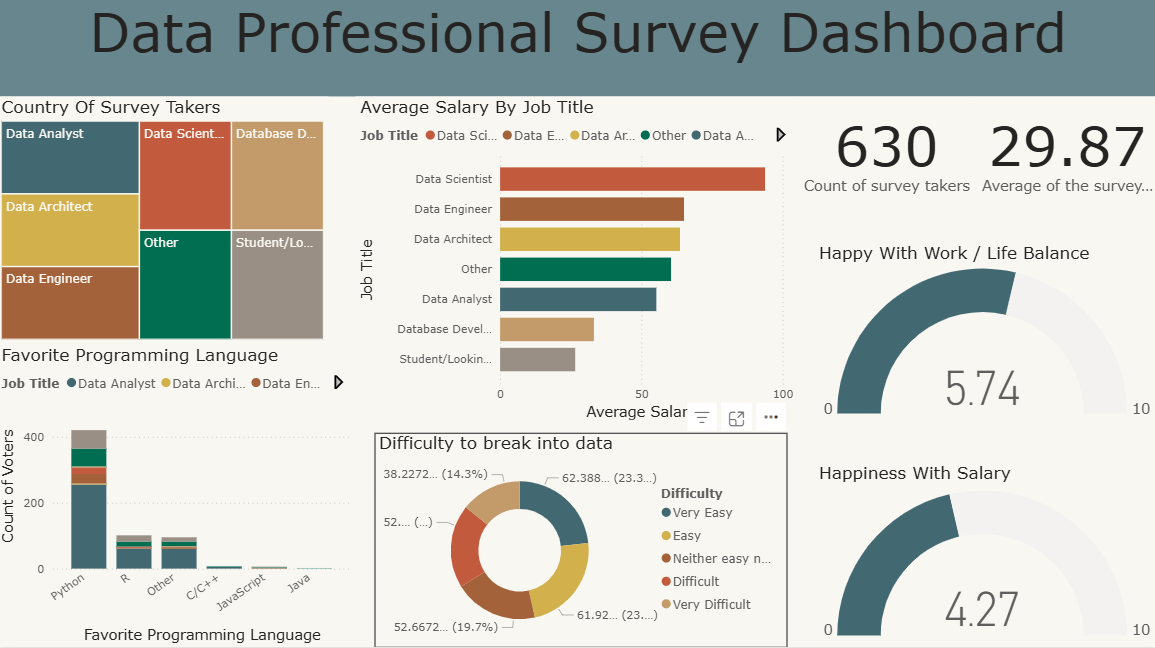

This screenshot's page, from the dashboard's own definition file:
{"tool":"powerbi","page":{"name":"Page 1","canvas":[1280,720],"ordinal":0},"visuals":[{"type":"textbox","box":[0,0,1280.3,112.5],"z":0},{"type":"card","fields":{"Values":["Count(Data Professional Survey.Unique ID)"]},"box":[882.4,112.9,195.5,121.1],"z":1000},{"type":"card","fields":{"Values":["Avg(Data Professional Survey.Q10 - Current Age)"]},"box":[1077.9,112.9,202.4,121.1],"z":2000},{"type":"barChart","title":"Average Salary By Job Title","fields":{"Category":["Data Professional Survey.Q1 - Which Title Best Fits your Current Role?.1"],"Y":["Avg(Data Professional Survey.Average Salary)"],"Series":["Data Professional Survey.Q1 - Which Title Best Fits your Current Role?.1"]},"box":[395.1,112.9,487.3,360.7],"z":3000},{"type":"columnChart","title":" Favorite Programming Language","fields":{"Category":["Data Professional Survey.Q5 - Favorite Programming Language.1"],"Y":["CountNonNull(Data Professional Survey.Unique ID)"],"Series":["Data Professional Survey.Q1 - Which Title Best Fits your Current Role?.1"]},"box":[0,385.5,395.1,334.5],"z":4000},{"type":"treemap","title":"Country Of Survey Takers","fields":{"Group":["Data Professional Survey.Q1 - Which Title Best Fits your Current Role?.1"],"Values":["Count(Data Professional Survey.Q1 - Which Title Best Fits your Current Role?.1)"]},"box":[0,112.9,364.8,272.6],"z":5000},{"type":"gauge","title":"Happy With Work / Life Balance","fields":{"Y":["Avg(Data Professional Survey.Q6 - How Happy are you in your Current Position with the following? (Work/Life Balance))"],"MinValue":["Min(Data Professional Survey.Q6 - How Happy are you in your Current Position with the following? (Work/Life Balance))1"],"MaxValue":["Max(Data Professional Survey.Q6 - How Happy are you in your Current Position with the following? (Work/Life Balance))2"]},"box":[900.3,274,380,199.6],"z":6000},{"type":"gauge","title":"Happiness With Salary","fields":{"Y":["Avg(Data Professional Survey.Q6 - How Happy are you in your Current Position with the following? (Salary))"],"MinValue":["Min(Data Professional Survey.Q6 - How Happy are you in your Current Position with the following? (Salary))"],"MaxValue":["Max(Data Professional Survey.Q6 - How Happy are you in your Current Position with the following? (Salary))"]},"box":[900.3,516.2,380,203.7],"z":7000},{"type":"donutChart","title":"Difficulty to break into data ","fields":{"Category":["Data Professional Survey.Q7 - How difficult was it for you to break into Data?"],"Y":["Avg(Data Professional Survey.Average Salary)"]},"box":[415.7,483.2,454.3,236.8],"z":8000}]}

Visuals, with their boxes in screenshot pixels (x1, y1, x2, y2), scaled from the page's 1280x720 canvas onto the 1155x648 screenshot:
textbox: l=0, t=0, r=1154, b=101
card - Count(Data Professional Survey.Unique ID): l=796, t=102, r=973, b=211
card - Avg(Data Professional Survey.Q10 - Current Age): l=973, t=102, r=1154, b=211
"Average Salary By Job Title" barChart: l=357, t=102, r=796, b=426
" Favorite Programming Language" columnChart: l=0, t=347, r=357, b=647
"Country Of Survey Takers" treemap: l=0, t=102, r=329, b=347
"Happy With Work / Life Balance" gauge: l=812, t=247, r=1154, b=426
"Happiness With Salary" gauge: l=812, t=465, r=1154, b=647
"Difficulty to break into data " donutChart: l=375, t=435, r=785, b=647
